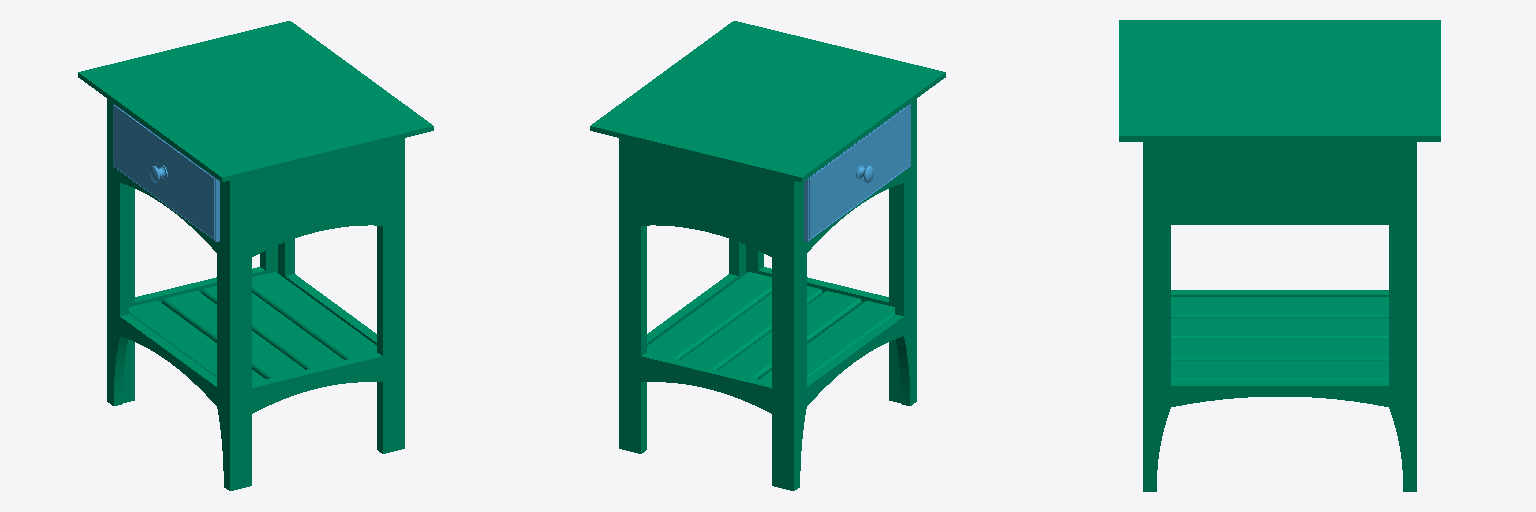
The robot description file, URDF, robot "partnet_9e42bbdbfe36680391e4d6c585a697a":
<?xml version="1.0" ?>
<robot name="partnet_9e42bbdbfe36680391e4d6c585a697a">
	<link name="base"/>
	<link name="link_0">
		<visual name="drawer_front-33">
			<origin xyz="0 0 0"/>
			<geometry>
				<mesh filename="textured_objs/original-9.obj"/>
			</geometry>
		</visual>
		<visual name="drawer_side-34">
			<origin xyz="0 0 0"/>
			<geometry>
				<mesh filename="textured_objs/original-7.obj"/>
			</geometry>
		</visual>
		<visual name="drawer_side-35">
			<origin xyz="0 0 0"/>
			<geometry>
				<mesh filename="textured_objs/original-4.obj"/>
			</geometry>
		</visual>
		<visual name="drawer_back-36">
			<origin xyz="0 0 0"/>
			<geometry>
				<mesh filename="textured_objs/original-5.obj"/>
			</geometry>
		</visual>
		<visual name="drawer_bottom-37">
			<origin xyz="0 0 0"/>
			<geometry>
				<mesh filename="textured_objs/original-3.obj"/>
			</geometry>
		</visual>
		<visual name="handle-32">
			<origin xyz="0 0 0"/>
			<geometry>
				<mesh filename="textured_objs/original-2.obj"/>
			</geometry>
		</visual>
		<collision>
			<origin xyz="0 0 0"/>
			<geometry>
				<mesh filename="textured_objs/original-9.obj"/>
			</geometry>
		</collision>
		<collision>
			<origin xyz="0 0 0"/>
			<geometry>
				<mesh filename="textured_objs/original-7.obj"/>
			</geometry>
		</collision>
		<collision>
			<origin xyz="0 0 0"/>
			<geometry>
				<mesh filename="textured_objs/original-4.obj"/>
			</geometry>
		</collision>
		<collision>
			<origin xyz="0 0 0"/>
			<geometry>
				<mesh filename="textured_objs/original-5.obj"/>
			</geometry>
		</collision>
		<collision>
			<origin xyz="0 0 0"/>
			<geometry>
				<mesh filename="textured_objs/original-3.obj"/>
			</geometry>
		</collision>
		<collision>
			<origin xyz="0 0 0"/>
			<geometry>
				<mesh filename="textured_objs/original-2.obj"/>
			</geometry>
		</collision>
	</link>
	<joint name="joint_0" type="prismatic">
		<origin xyz="0 0 0"/>
		<axis xyz="0 0 1"/>
		<child link="link_0"/>
		<parent link="link_1"/>
		<limit lower="0" upper="0.512"/>
	</joint>
	<link name="link_1">
		<visual name="board-44">
			<origin xyz="0 0 0"/>
			<geometry>
				<mesh filename="textured_objs/original-22.obj"/>
			</geometry>
		</visual>
		<visual name="shelf-13">
			<origin xyz="0 0 0"/>
			<geometry>
				<mesh filename="textured_objs/original-33.obj"/>
			</geometry>
		</visual>
		<visual name="shelf-14">
			<origin xyz="0 0 0"/>
			<geometry>
				<mesh filename="textured_objs/original-35.obj"/>
			</geometry>
		</visual>
		<visual name="shelf-15">
			<origin xyz="0 0 0"/>
			<geometry>
				<mesh filename="textured_objs/original-34.obj"/>
			</geometry>
		</visual>
		<visual name="back_panel-16">
			<origin xyz="0 0 0"/>
			<geometry>
				<mesh filename="textured_objs/original-20.obj"/>
			</geometry>
		</visual>
		<visual name="vertical_side_panel-17">
			<origin xyz="0 0 0"/>
			<geometry>
				<mesh filename="textured_objs/original-40.obj"/>
			</geometry>
		</visual>
		<visual name="vertical_side_panel-17">
			<origin xyz="0 0 0"/>
			<geometry>
				<mesh filename="textured_objs/original-18.obj"/>
			</geometry>
		</visual>
		<visual name="vertical_side_panel-18">
			<origin xyz="0 0 0"/>
			<geometry>
				<mesh filename="textured_objs/original-19.obj"/>
			</geometry>
		</visual>
		<visual name="vertical_side_panel-18">
			<origin xyz="0 0 0"/>
			<geometry>
				<mesh filename="textured_objs/original-41.obj"/>
			</geometry>
		</visual>
		<visual name="leg-19">
			<origin xyz="0 0 0"/>
			<geometry>
				<mesh filename="textured_objs/original-26.obj"/>
			</geometry>
		</visual>
		<visual name="leg-19">
			<origin xyz="0 0 0"/>
			<geometry>
				<mesh filename="textured_objs/original-27.obj"/>
			</geometry>
		</visual>
		<visual name="leg-20">
			<origin xyz="0 0 0"/>
			<geometry>
				<mesh filename="textured_objs/original-29.obj"/>
			</geometry>
		</visual>
		<visual name="leg-20">
			<origin xyz="0 0 0"/>
			<geometry>
				<mesh filename="textured_objs/original-28.obj"/>
			</geometry>
		</visual>
		<visual name="leg-21">
			<origin xyz="0 0 0"/>
			<geometry>
				<mesh filename="textured_objs/original-30.obj"/>
			</geometry>
		</visual>
		<visual name="leg-21">
			<origin xyz="0 0 0"/>
			<geometry>
				<mesh filename="textured_objs/original-31.obj"/>
			</geometry>
		</visual>
		<visual name="leg-22">
			<origin xyz="0 0 0"/>
			<geometry>
				<mesh filename="textured_objs/original-25.obj"/>
			</geometry>
		</visual>
		<visual name="leg-22">
			<origin xyz="0 0 0"/>
			<geometry>
				<mesh filename="textured_objs/original-24.obj"/>
			</geometry>
		</visual>
		<visual name="bar_stretcher-23">
			<origin xyz="0 0 0"/>
			<geometry>
				<mesh filename="textured_objs/original-21.obj"/>
			</geometry>
		</visual>
		<visual name="bar_stretcher-23">
			<origin xyz="0 0 0"/>
			<geometry>
				<mesh filename="textured_objs/original-42.obj"/>
			</geometry>
		</visual>
		<visual name="bar_stretcher-24">
			<origin xyz="0 0 0"/>
			<geometry>
				<mesh filename="textured_objs/original-23.obj"/>
			</geometry>
		</visual>
		<visual name="bar_stretcher-25">
			<origin xyz="0 0 0"/>
			<geometry>
				<mesh filename="textured_objs/original-17.obj"/>
			</geometry>
		</visual>
		<visual name="bar_stretcher-26">
			<origin xyz="0 0 0"/>
			<geometry>
				<mesh filename="textured_objs/original-37.obj"/>
			</geometry>
		</visual>
		<visual name="bar_stretcher-27">
			<origin xyz="0 0 0"/>
			<geometry>
				<mesh filename="textured_objs/original-16.obj"/>
			</geometry>
		</visual>
		<visual name="bar_stretcher-28">
			<origin xyz="0 0 0"/>
			<geometry>
				<mesh filename="textured_objs/original-36.obj"/>
			</geometry>
		</visual>
		<visual name="shelf-30">
			<origin xyz="0 0 0"/>
			<geometry>
				<mesh filename="textured_objs/original-32.obj"/>
			</geometry>
		</visual>
		<visual name="bar_stretcher-38">
			<origin xyz="0 0 0"/>
			<geometry>
				<mesh filename="textured_objs/original-15.obj"/>
			</geometry>
		</visual>
		<visual name="bar_stretcher-38">
			<origin xyz="0 0 0"/>
			<geometry>
				<mesh filename="textured_objs/original-8.obj"/>
			</geometry>
		</visual>
		<visual name="bar_stretcher-38">
			<origin xyz="0 0 0"/>
			<geometry>
				<mesh filename="textured_objs/original-6.obj"/>
			</geometry>
		</visual>
		<visual name="bar_stretcher-39">
			<origin xyz="0 0 0"/>
			<geometry>
				<mesh filename="textured_objs/original-14.obj"/>
			</geometry>
		</visual>
		<visual name="bar_stretcher-40">
			<origin xyz="0 0 0"/>
			<geometry>
				<mesh filename="textured_objs/original-11.obj"/>
			</geometry>
		</visual>
		<visual name="bar_stretcher-41">
			<origin xyz="0 0 0"/>
			<geometry>
				<mesh filename="textured_objs/original-13.obj"/>
			</geometry>
		</visual>
		<visual name="bar_stretcher-42">
			<origin xyz="0 0 0"/>
			<geometry>
				<mesh filename="textured_objs/original-12.obj"/>
			</geometry>
		</visual>
		<visual name="bar_stretcher-45">
			<origin xyz="0 0 0"/>
			<geometry>
				<mesh filename="textured_objs/original-39.obj"/>
			</geometry>
		</visual>
		<visual name="bar_stretcher-46">
			<origin xyz="0 0 0"/>
			<geometry>
				<mesh filename="textured_objs/original-38.obj"/>
			</geometry>
		</visual>
		<collision>
			<origin xyz="0 0 0"/>
			<geometry>
				<mesh filename="textured_objs/original-22.obj"/>
			</geometry>
		</collision>
		<collision>
			<origin xyz="0 0 0"/>
			<geometry>
				<mesh filename="textured_objs/original-33.obj"/>
			</geometry>
		</collision>
		<collision>
			<origin xyz="0 0 0"/>
			<geometry>
				<mesh filename="textured_objs/original-35.obj"/>
			</geometry>
		</collision>
		<collision>
			<origin xyz="0 0 0"/>
			<geometry>
				<mesh filename="textured_objs/original-34.obj"/>
			</geometry>
		</collision>
		<collision>
			<origin xyz="0 0 0"/>
			<geometry>
				<mesh filename="textured_objs/original-20.obj"/>
			</geometry>
		</collision>
		<collision>
			<origin xyz="0 0 0"/>
			<geometry>
				<mesh filename="textured_objs/original-40.obj"/>
			</geometry>
		</collision>
		<collision>
			<origin xyz="0 0 0"/>
			<geometry>
				<mesh filename="textured_objs/original-18.obj"/>
			</geometry>
		</collision>
		<collision>
			<origin xyz="0 0 0"/>
			<geometry>
				<mesh filename="textured_objs/original-19.obj"/>
			</geometry>
		</collision>
		<collision>
			<origin xyz="0 0 0"/>
			<geometry>
				<mesh filename="textured_objs/original-41.obj"/>
			</geometry>
		</collision>
		<collision>
			<origin xyz="0 0 0"/>
			<geometry>
				<mesh filename="textured_objs/original-26.obj"/>
			</geometry>
		</collision>
		<collision>
			<origin xyz="0 0 0"/>
			<geometry>
				<mesh filename="textured_objs/original-27.obj"/>
			</geometry>
		</collision>
		<collision>
			<origin xyz="0 0 0"/>
			<geometry>
				<mesh filename="textured_objs/original-29.obj"/>
			</geometry>
		</collision>
		<collision>
			<origin xyz="0 0 0"/>
			<geometry>
				<mesh filename="textured_objs/original-28.obj"/>
			</geometry>
		</collision>
		<collision>
			<origin xyz="0 0 0"/>
			<geometry>
				<mesh filename="textured_objs/original-30.obj"/>
			</geometry>
		</collision>
		<collision>
			<origin xyz="0 0 0"/>
			<geometry>
				<mesh filename="textured_objs/original-31.obj"/>
			</geometry>
		</collision>
		<collision>
			<origin xyz="0 0 0"/>
			<geometry>
				<mesh filename="textured_objs/original-25.obj"/>
			</geometry>
		</collision>
		<collision>
			<origin xyz="0 0 0"/>
			<geometry>
				<mesh filename="textured_objs/original-24.obj"/>
			</geometry>
		</collision>
		<collision>
			<origin xyz="0 0 0"/>
			<geometry>
				<mesh filename="textured_objs/original-21.obj"/>
			</geometry>
		</collision>
		<collision>
			<origin xyz="0 0 0"/>
			<geometry>
				<mesh filename="textured_objs/original-42.obj"/>
			</geometry>
		</collision>
		<collision>
			<origin xyz="0 0 0"/>
			<geometry>
				<mesh filename="textured_objs/original-23.obj"/>
			</geometry>
		</collision>
		<collision>
			<origin xyz="0 0 0"/>
			<geometry>
				<mesh filename="textured_objs/original-17.obj"/>
			</geometry>
		</collision>
		<collision>
			<origin xyz="0 0 0"/>
			<geometry>
				<mesh filename="textured_objs/original-37.obj"/>
			</geometry>
		</collision>
		<collision>
			<origin xyz="0 0 0"/>
			<geometry>
				<mesh filename="textured_objs/original-16.obj"/>
			</geometry>
		</collision>
		<collision>
			<origin xyz="0 0 0"/>
			<geometry>
				<mesh filename="textured_objs/original-36.obj"/>
			</geometry>
		</collision>
		<collision>
			<origin xyz="0 0 0"/>
			<geometry>
				<mesh filename="textured_objs/original-32.obj"/>
			</geometry>
		</collision>
		<collision>
			<origin xyz="0 0 0"/>
			<geometry>
				<mesh filename="textured_objs/original-15.obj"/>
			</geometry>
		</collision>
		<collision>
			<origin xyz="0 0 0"/>
			<geometry>
				<mesh filename="textured_objs/original-8.obj"/>
			</geometry>
		</collision>
		<collision>
			<origin xyz="0 0 0"/>
			<geometry>
				<mesh filename="textured_objs/original-6.obj"/>
			</geometry>
		</collision>
		<collision>
			<origin xyz="0 0 0"/>
			<geometry>
				<mesh filename="textured_objs/original-14.obj"/>
			</geometry>
		</collision>
		<collision>
			<origin xyz="0 0 0"/>
			<geometry>
				<mesh filename="textured_objs/original-11.obj"/>
			</geometry>
		</collision>
		<collision>
			<origin xyz="0 0 0"/>
			<geometry>
				<mesh filename="textured_objs/original-13.obj"/>
			</geometry>
		</collision>
		<collision>
			<origin xyz="0 0 0"/>
			<geometry>
				<mesh filename="textured_objs/original-12.obj"/>
			</geometry>
		</collision>
		<collision>
			<origin xyz="0 0 0"/>
			<geometry>
				<mesh filename="textured_objs/original-39.obj"/>
			</geometry>
		</collision>
		<collision>
			<origin xyz="0 0 0"/>
			<geometry>
				<mesh filename="textured_objs/original-38.obj"/>
			</geometry>
		</collision>
	</link>
	<joint name="joint_1" type="fixed">
		<origin rpy="1.570796326794897 0 -1.570796326794897" xyz="0 0 0"/>
		<child link="link_1"/>
		<parent link="base"/>
	</joint>
</robot>

--- Render facts (derived) ---
3 views of the same robot in one strip: view 1: azimuth 30°, elevation 25°; view 2: azimuth 150°, elevation 25°; view 3: azimuth 270°, elevation 25° (orthographic).
Model partnet_9e42bbdbfe36680391e4d6c585a697a with 3 links and 2 joints (1 prismatic, 1 fixed), rooted at base, posed all joints at 0.
Visible links, largest first — view 1: link_1, link_0; view 2: link_1, link_0; view 3: link_1.
Link boxes in pixels (x1,y1,x2,y2): link_1: [78, 21, 433, 490]; link_0: [113, 103, 219, 241]; link_1: [590, 21, 945, 490]; link_0: [804, 103, 910, 241]; link_1: [1119, 20, 1440, 491].
Size in the robot's own frame: 0.8919 by 1.05 by 1.31 metres.
Meshes: 40 distinct files referenced, 40 mesh visuals loaded (40 OBJ).
